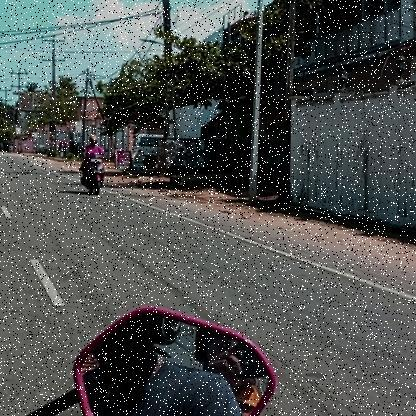motorcycle: (78, 150, 110, 198)
